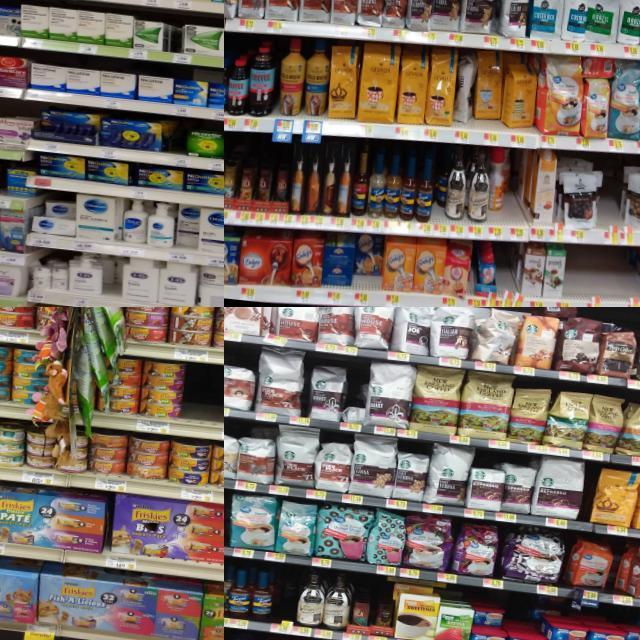Imprecise: (494, 146, 528, 220), (472, 58, 504, 129), (352, 230, 382, 290), (34, 198, 79, 234), (475, 599, 508, 640), (175, 200, 201, 250), (99, 257, 124, 294)
